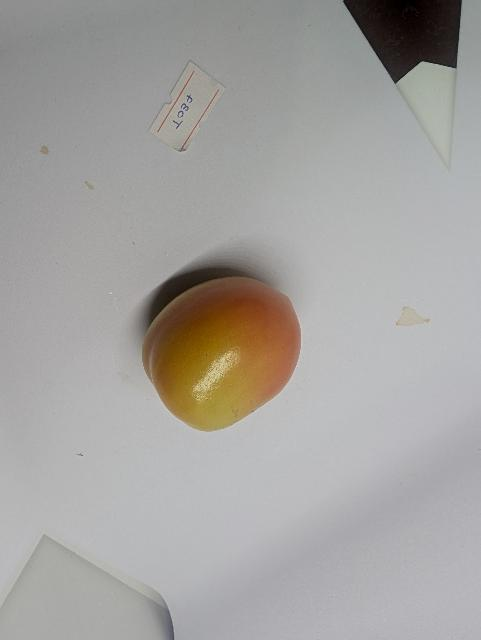turning: (132, 270, 313, 435)
